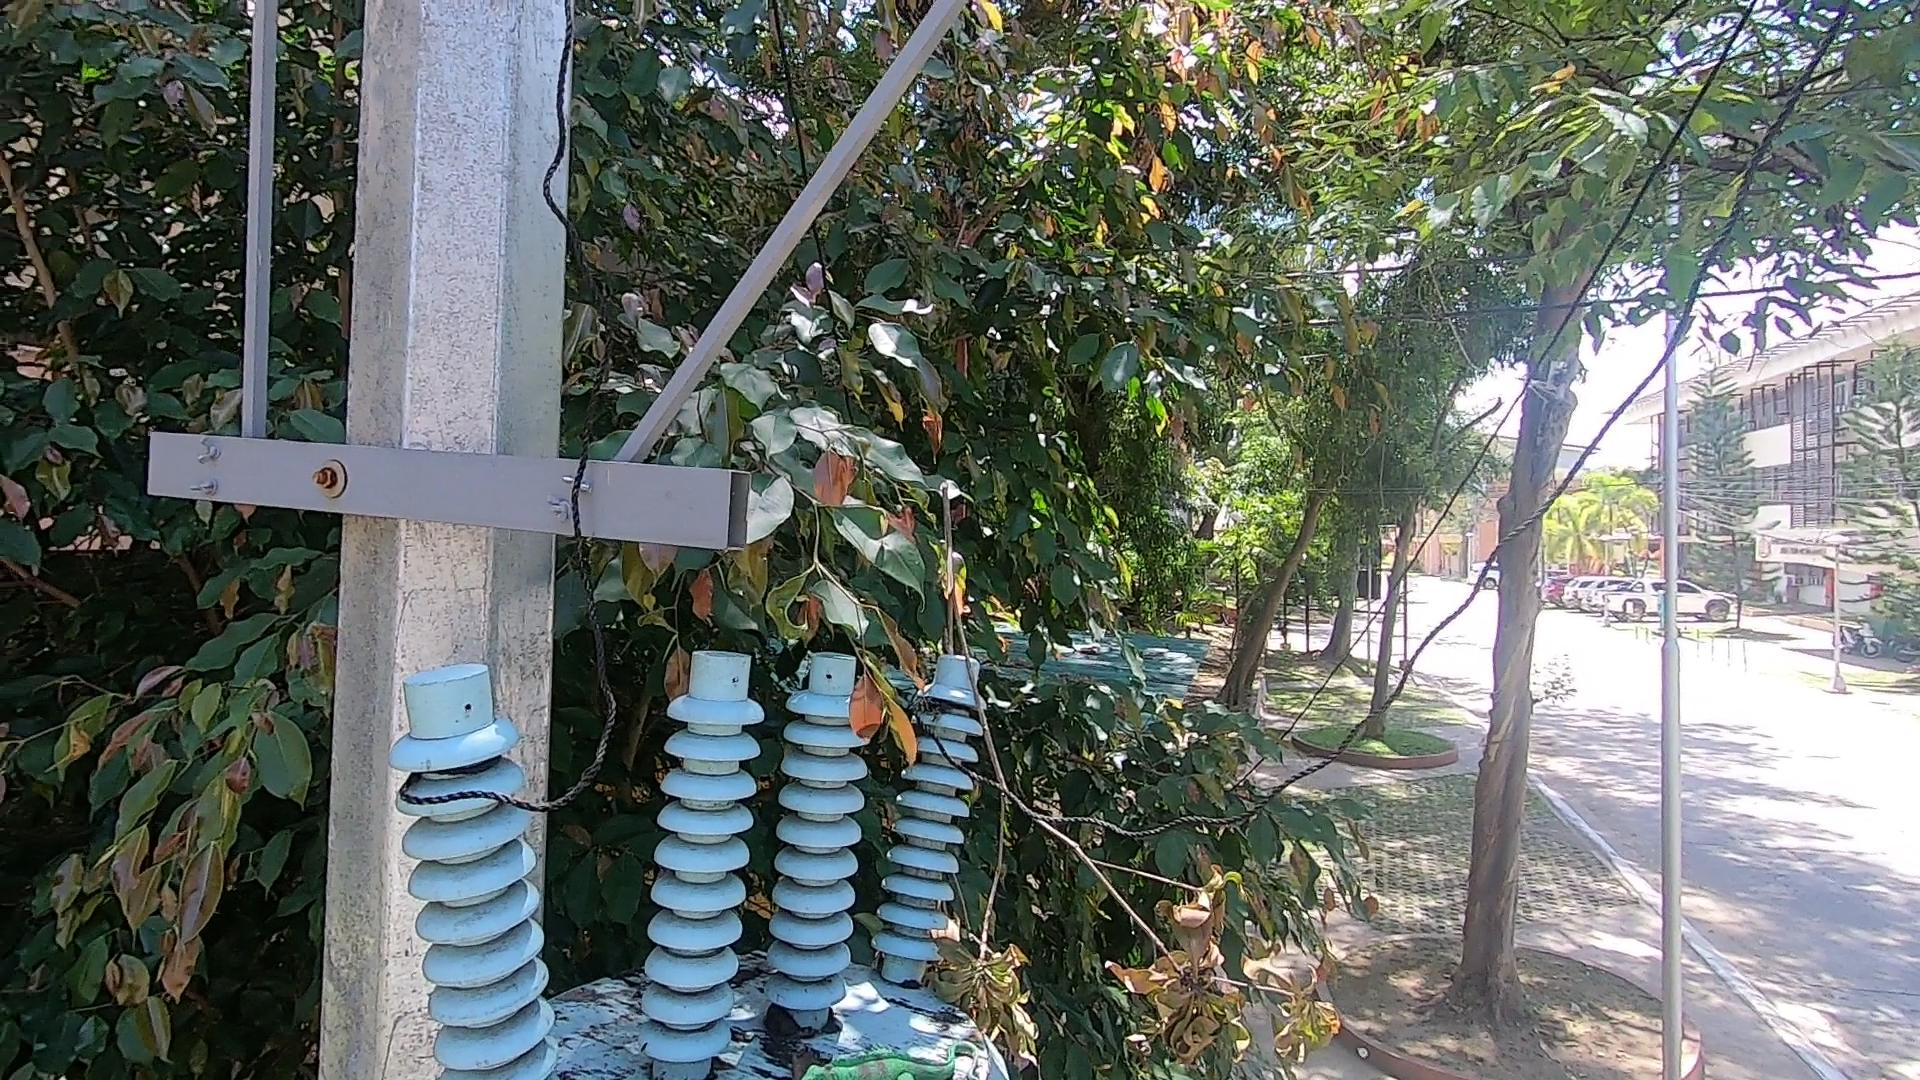branch with leaves: (920, 489, 1366, 1067)
leaf: (746, 1011, 804, 1058), (796, 1044, 851, 1069), (827, 1015, 862, 1031)
